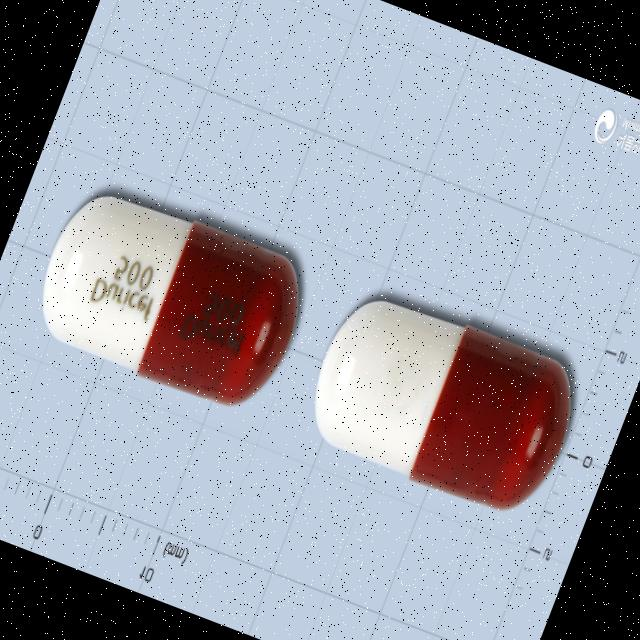Duricef Cap: (22, 175, 320, 424), (292, 281, 592, 528)
